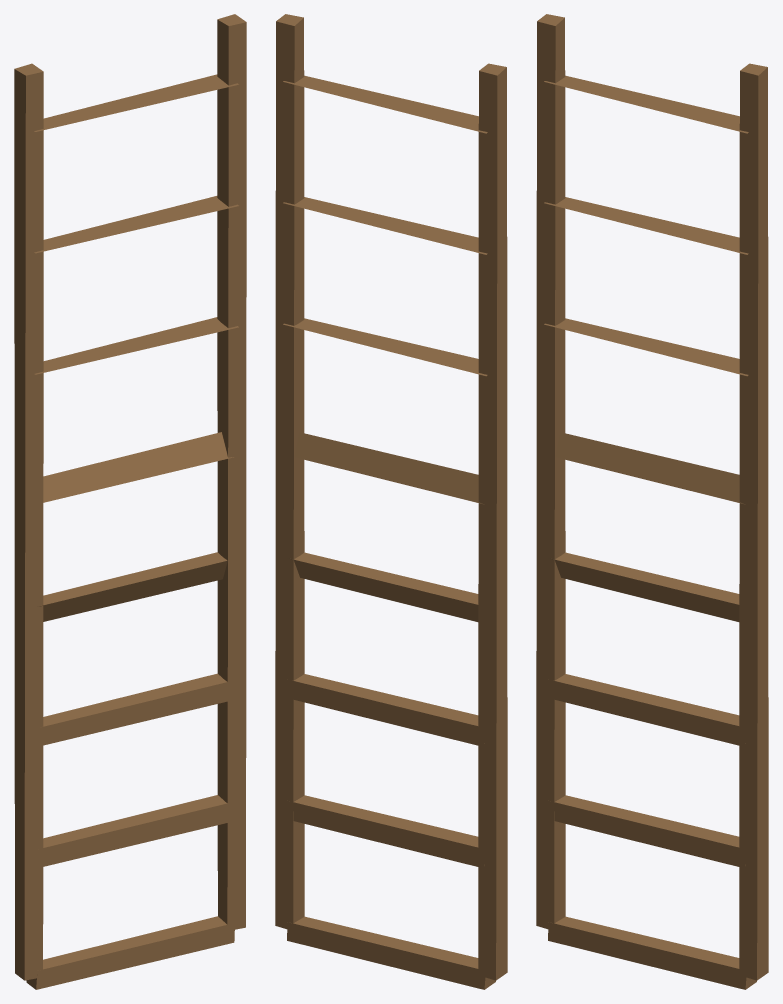
Rendered from harbor-dock-ladder.lod2.glb.
3 renders of one model, left to right at view 1: azimuth 30°, elevation 25°; view 2: azimuth 150°, elevation 25°; view 3: azimuth 330°, elevation 25°, orthographic.
Parts seen in each view (by area): view 1: harbor-dock-ladder__body; view 2: harbor-dock-ladder__body; view 3: harbor-dock-ladder__body.
Part boxes in pixels (left/top/right/bottom): harbor-dock-ladder__body: left=14, top=14, right=246, bottom=989; harbor-dock-ladder__body: left=275, top=14, right=507, bottom=989; harbor-dock-ladder__body: left=536, top=14, right=768, bottom=989.
Size of the model in its own units: 0.7665 by 3.03 by 0.083.
